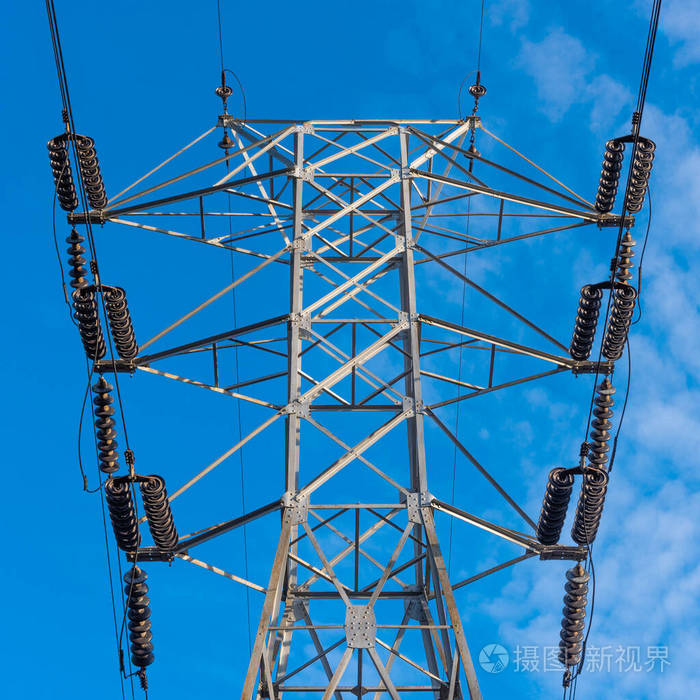insulator: (534, 469, 611, 548), (107, 475, 180, 553), (71, 285, 136, 362), (594, 138, 658, 211), (572, 285, 634, 358), (47, 137, 110, 208), (122, 566, 159, 668), (556, 568, 593, 667), (90, 378, 121, 475), (587, 384, 618, 465), (65, 231, 92, 289), (614, 237, 637, 278)
